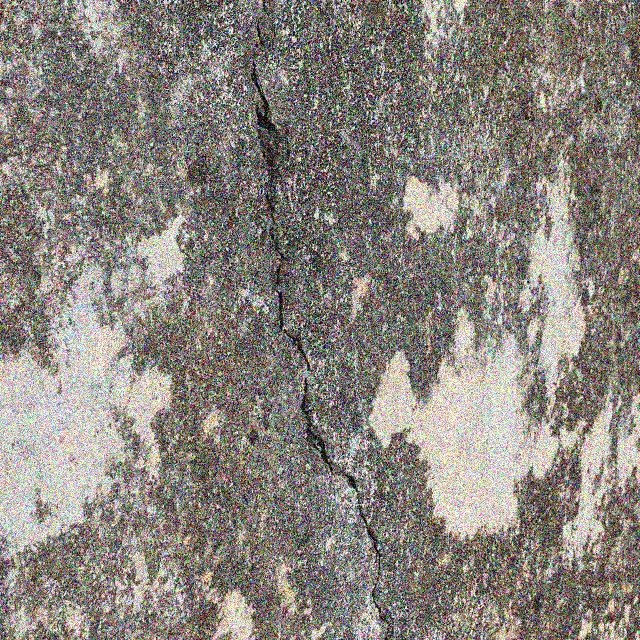SurfaceCrack: (207, 2, 423, 639)
